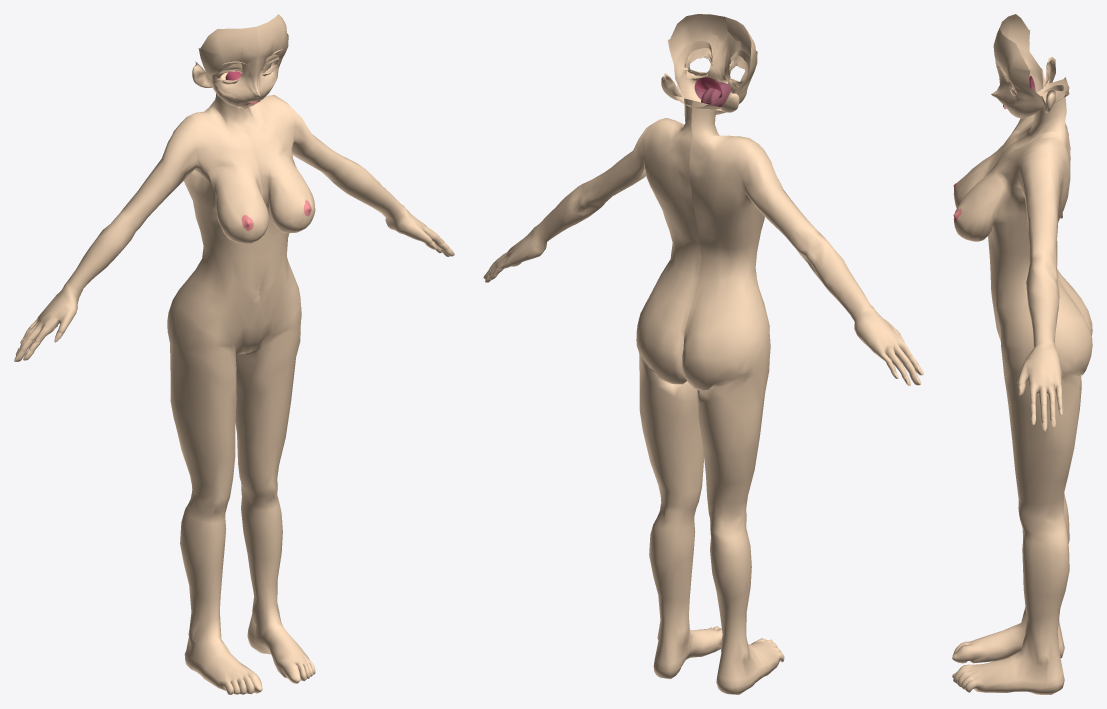
The model's file is Light Skin.fbx.
3 renders of one model, left to right at view 1: azimuth 30°, elevation 25°; view 2: azimuth 150°, elevation 25°; view 3: azimuth 270°, elevation 25°, orthographic.
Visible parts, largest first — view 1: Body_mesh; view 2: Body_mesh; view 3: Body_mesh.
Part boxes in pixels (x1,y1,x2,y2): Body_mesh: [14, 14, 454, 694]; Body_mesh: [483, 14, 923, 694]; Body_mesh: [952, 14, 1092, 694].
Size of the model in its own units: 108 by 154 by 30.13.
6 materials, 4 textured.
